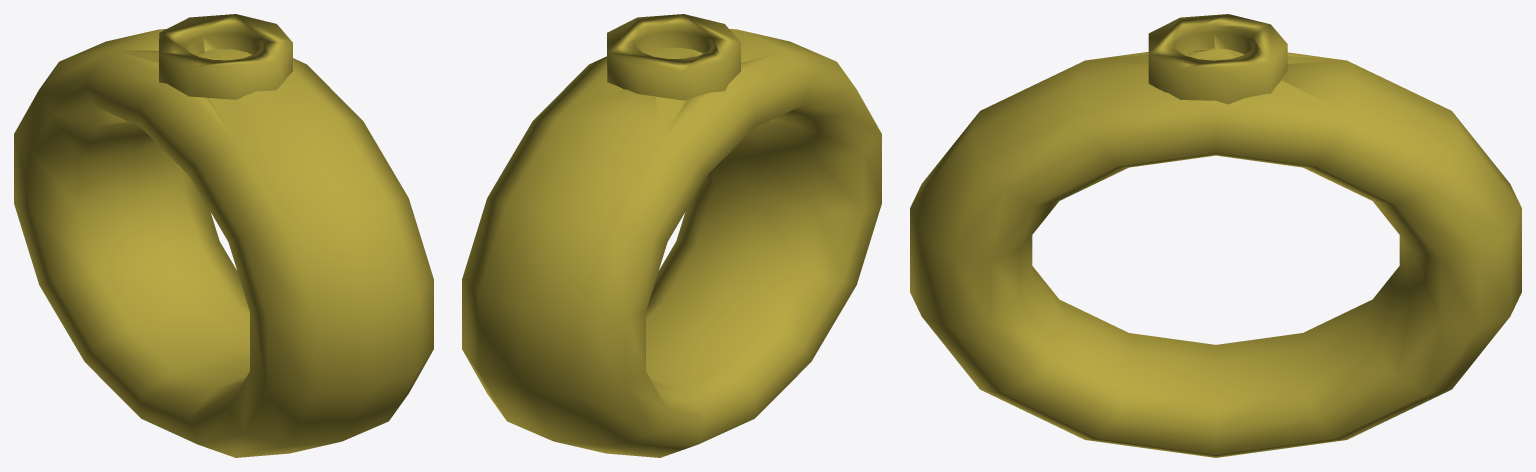
Rendered from bracelet.fbx.
The picture shows the model from 3 angles, left to right: view 1: azimuth 30°, elevation 25°; view 2: azimuth 150°, elevation 25°; view 3: azimuth 270°, elevation 25°; orthographic projection. The views are drawn at different scales.
Parts seen in each view (by area): view 1: Bracelet; view 2: Bracelet; view 3: Bracelet.
Boxes of the visible parts, box(x1,y1,x2,y2) form: Bracelet: box(14, 14, 433, 457); Bracelet: box(462, 14, 881, 457); Bracelet: box(910, 14, 1521, 457).
Size of the model in its own units: 3.48 by 7.63 by 10.7.
